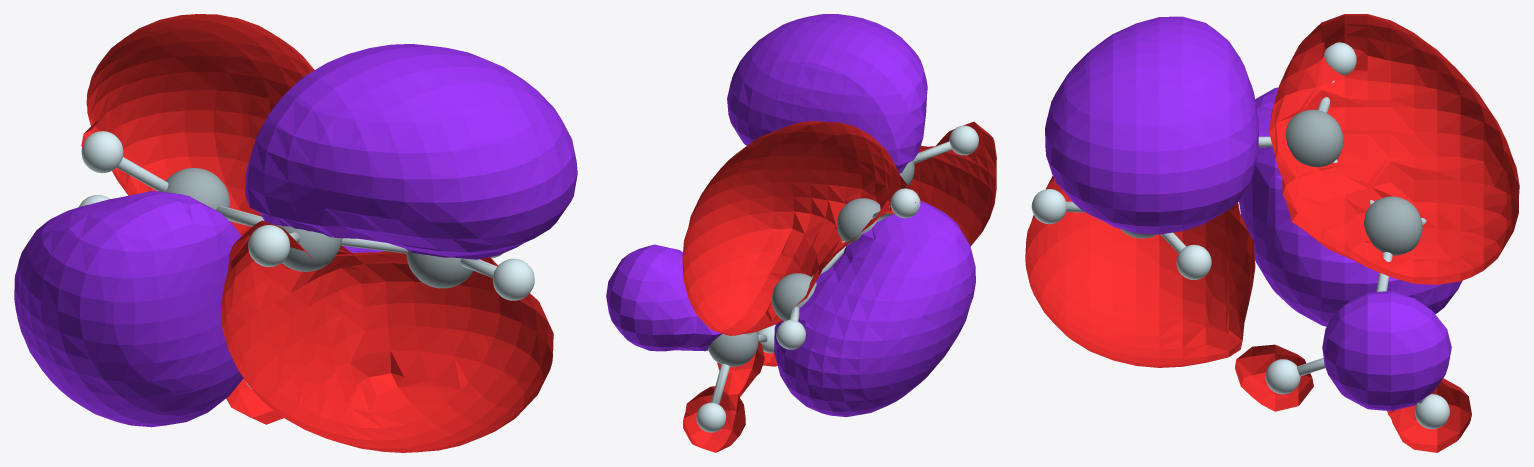
The picture shows the model from 3 angles, left to right: view 1: azimuth 30°, elevation 25°; view 2: azimuth 150°, elevation 25°; view 3: azimuth 270°, elevation 25°; orthographic projection. The views are drawn at different scales.
Parts seen in each view (by area): view 1: Renderer Node; view 2: Renderer Node; view 3: Renderer Node.
Part boxes in pixels (bbox=[...]): Renderer Node: bbox=[14, 14, 577, 452]; Renderer Node: bbox=[606, 14, 996, 452]; Renderer Node: bbox=[1025, 14, 1519, 452].
Size of the model in its own units: 4.98 by 5.07 by 5.6.
